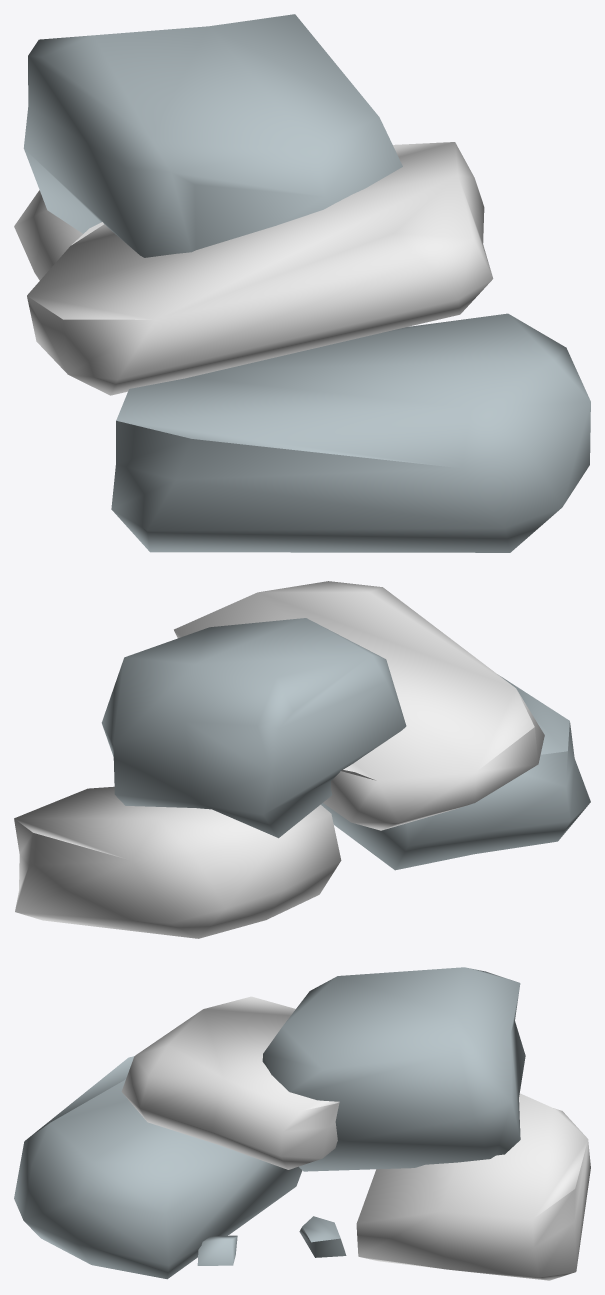
Rendered from Island_Rock_01.fbx.
3 renders of one model, top to bottom at view 1: azimuth 30°, elevation 25°; view 2: azimuth 150°, elevation 25°; view 3: azimuth 270°, elevation 25°, orthographic. The views are drawn at different scales.
Visible parts, largest first — view 1: Rock_02; view 2: Rock_02; view 3: Rock_02.
Part boxes in pixels (x1=…): Rock_02: x1=14, y1=14, x2=590, y2=552; Rock_02: x1=14, y1=581, x2=590, y2=938; Rock_02: x1=14, y1=967, x2=590, y2=1280.
Bounding box in the file's own units: 0.9843 × 0.6686 × 1.48.
